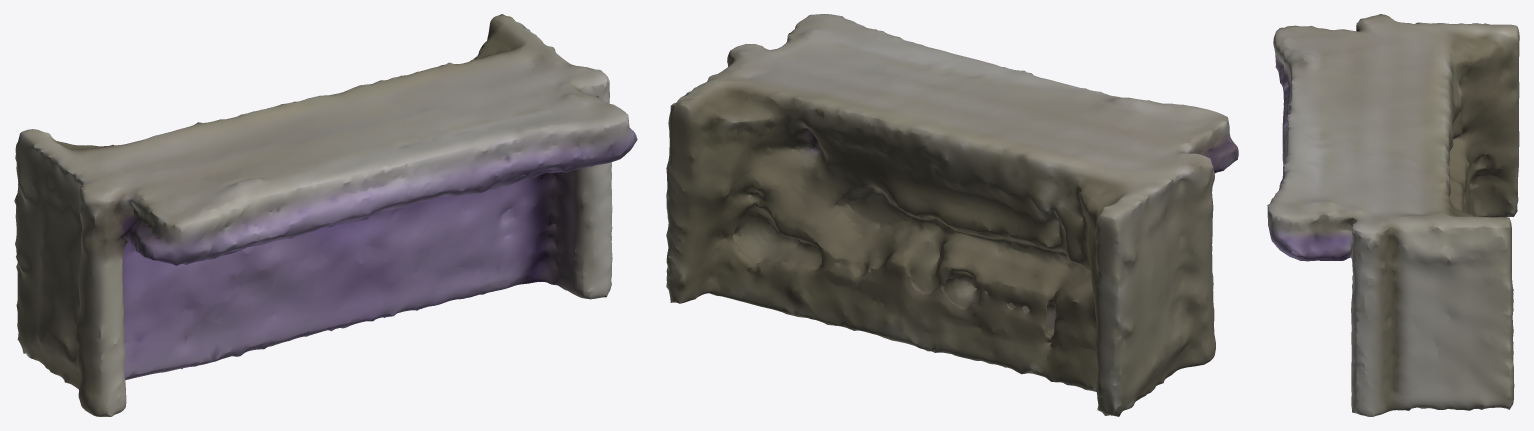
The model's file is sofa.glb.
3 views of the same model, side by side, from view 1: azimuth 30°, elevation 25°; view 2: azimuth 150°, elevation 25°; view 3: azimuth 270°, elevation 25° (orthographic). The views are drawn at different scales.
Bounding box in the file's own units: 0.9955 × 0.4279 × 0.4846.
